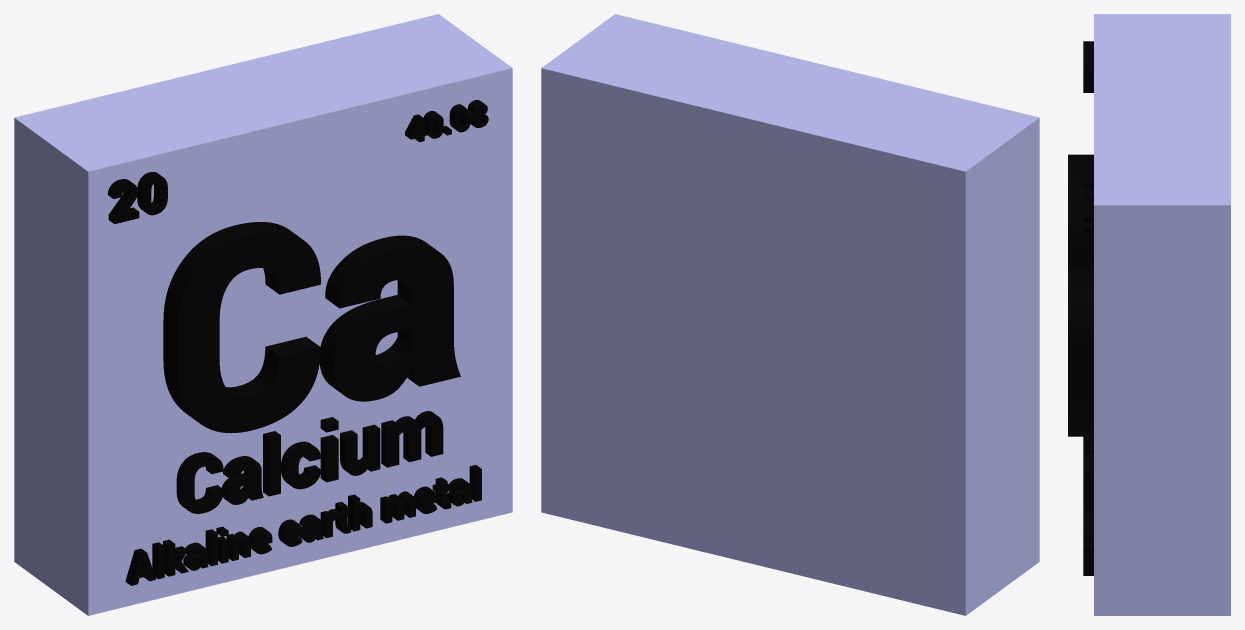
3 renders of one model, left to right at view 1: azimuth 30°, elevation 25°; view 2: azimuth 150°, elevation 25°; view 3: azimuth 270°, elevation 25°, orthographic. The views are drawn at different scales.
Visible parts, largest first — view 1: Cube, Text, Text.001, Text.002, Text.003, Text.004; view 2: Cube; view 3: Cube, Text, Text.001, Text.002, Text.003, Text.004.
Boxes of the visible parts, x1,y1,x2,y2 form: Cube: (14,14,512,615); Text: (163,222,460,433); Text.001: (176,411,443,513); Text.002: (125,465,481,585); Text.003: (107,172,167,224); Text.004: (405,100,488,142); Cube: (541,14,1039,615); Cube: (1094,14,1230,615); Text: (1068,154,1093,436); Text.001: (1083,436,1093,507); Text.002: (1083,507,1093,575); Text.003: (1083,41,1093,92); Text.004: (1083,182,1093,231).
Bounding box in the file's own units: 178 × 178 × 63.95.
